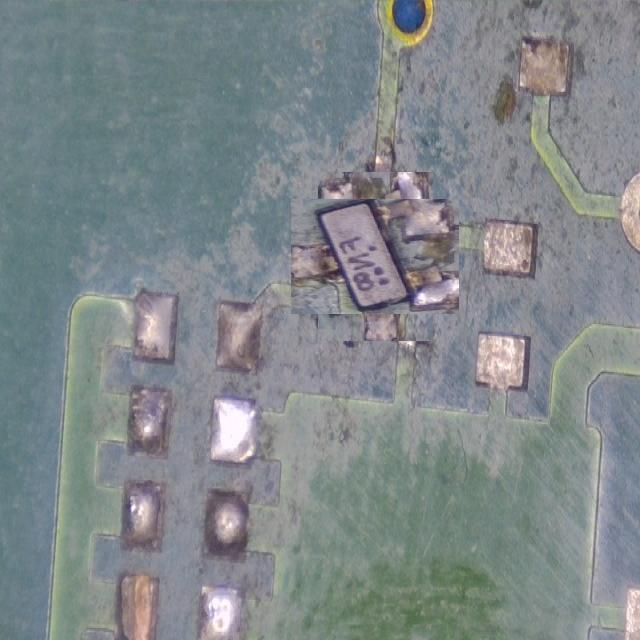Incorrect_installation: (292, 200, 458, 314)
